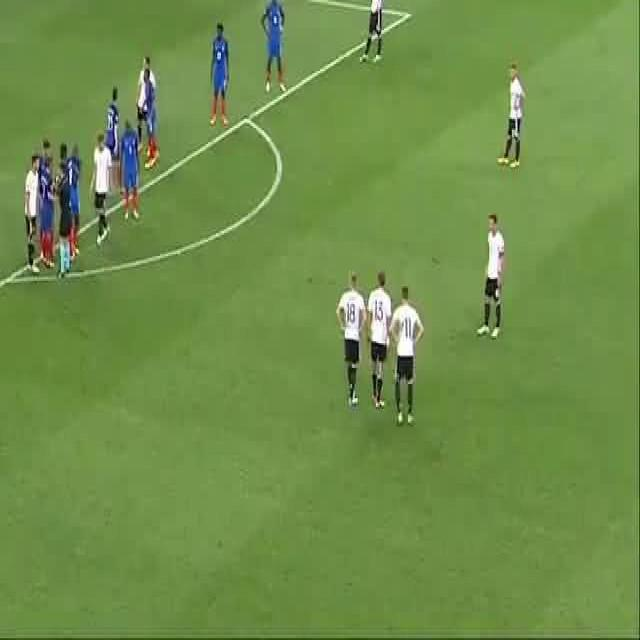player-white: (390, 285, 424, 425), (336, 274, 367, 407), (476, 214, 505, 340), (366, 271, 392, 408), (497, 64, 525, 168), (90, 130, 112, 246), (51, 161, 71, 279), (260, 0, 285, 94), (118, 118, 140, 222), (210, 22, 230, 128), (103, 87, 121, 194), (24, 153, 40, 273), (57, 142, 73, 262), (136, 56, 156, 152), (39, 139, 54, 261), (359, 0, 386, 62), (144, 69, 160, 169), (67, 144, 81, 258), (41, 157, 54, 267)
